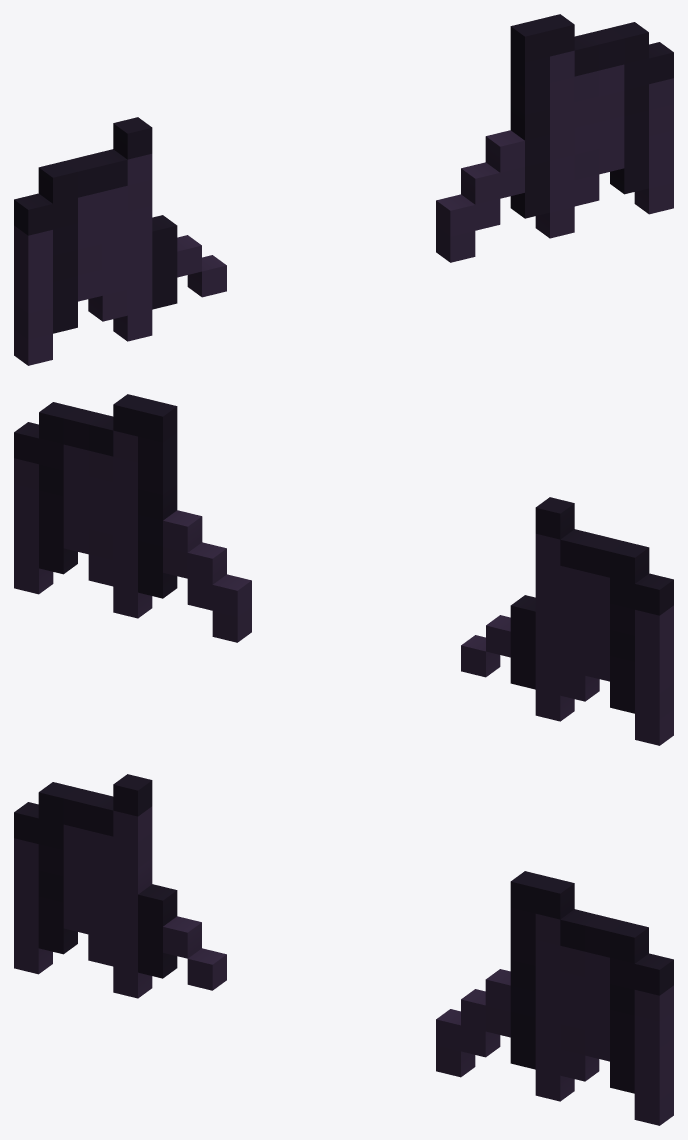
File: back_batwings.glb
3 views of the same model, one above another, from view 1: azimuth 30°, elevation 25°; view 2: azimuth 150°, elevation 25°; view 3: azimuth 330°, elevation 25° (orthographic).
Visible parts, largest first — view 1: FlapR, FlapL; view 2: FlapR, FlapL; view 3: FlapR, FlapL.
Boxes of the visible parts, left/top/right/bottom form: FlapR: left=436, top=14, right=673, bottom=262; FlapL: left=14, top=117, right=226, bottom=365; FlapR: left=14, top=394, right=251, bottom=642; FlapL: left=461, top=497, right=673, bottom=745; FlapR: left=436, top=871, right=673, bottom=1125; FlapL: left=14, top=774, right=226, bottom=998.
Bounding box in the file's own units: 2.86 × 0.8804 × 0.1104.
